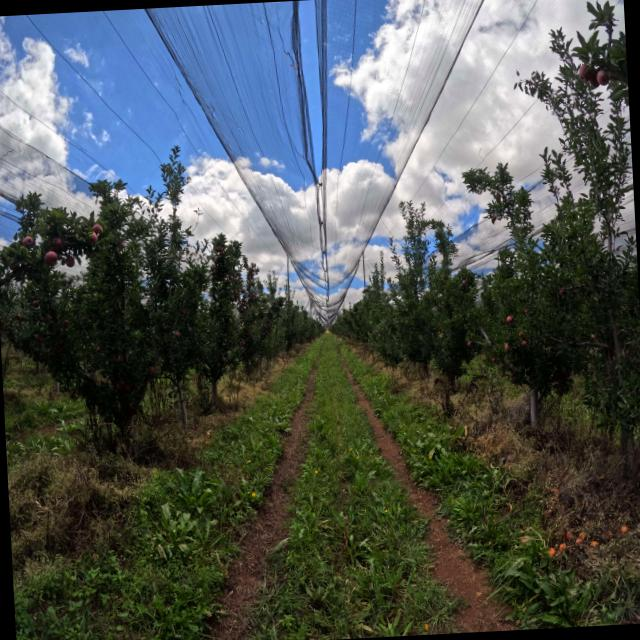-FireBlight-: (458, 366, 498, 406)
